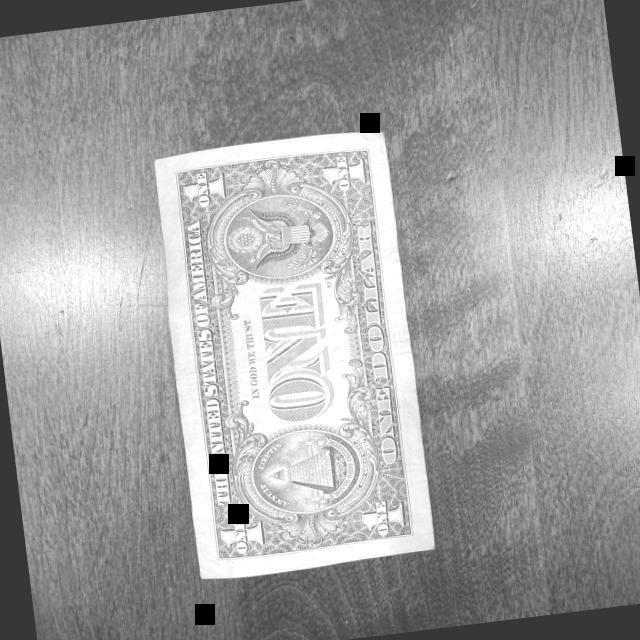one: (148, 127, 442, 582)
